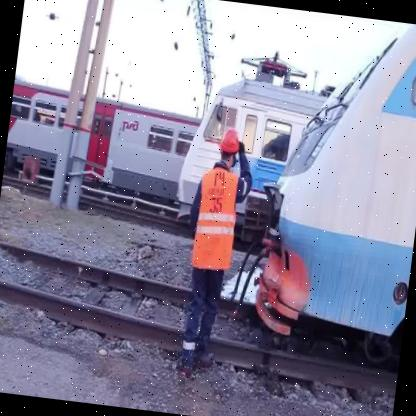bota: (166, 342, 201, 380), (194, 346, 218, 375)
capacete: (215, 124, 244, 154)
